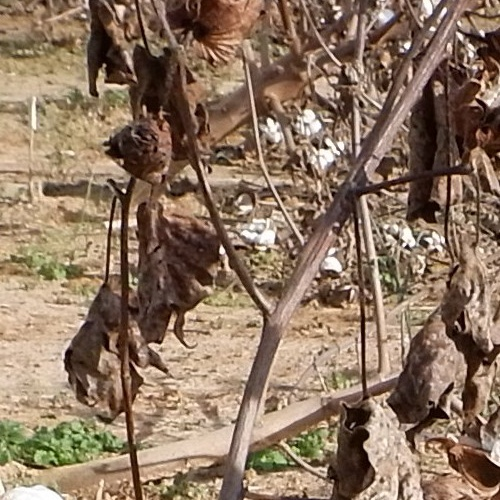mature_boll: (245, 93, 336, 246)
